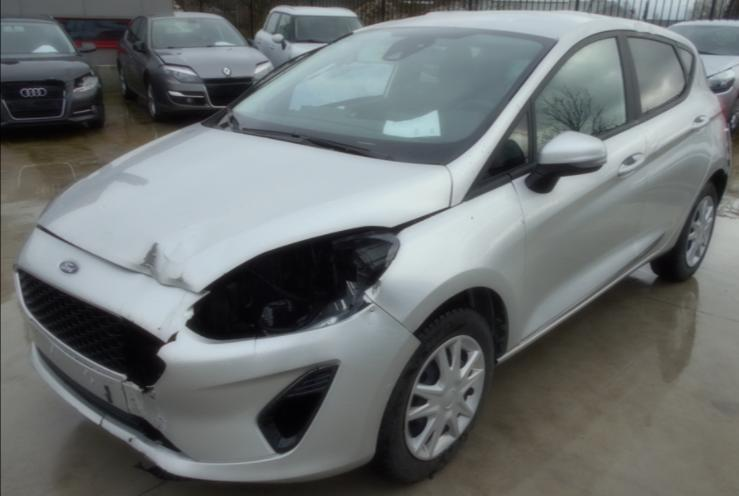Broken part: (12, 224, 419, 485), (35, 220, 148, 277), (389, 205, 453, 237)
Dent: (129, 242, 194, 289)
Missing part: (188, 228, 396, 339)
Scratch: (140, 241, 157, 274), (372, 278, 382, 294), (175, 273, 183, 282)
